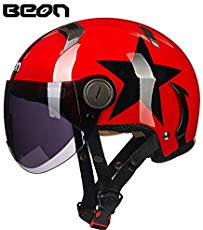with_helmet: (9, 17, 200, 169)
